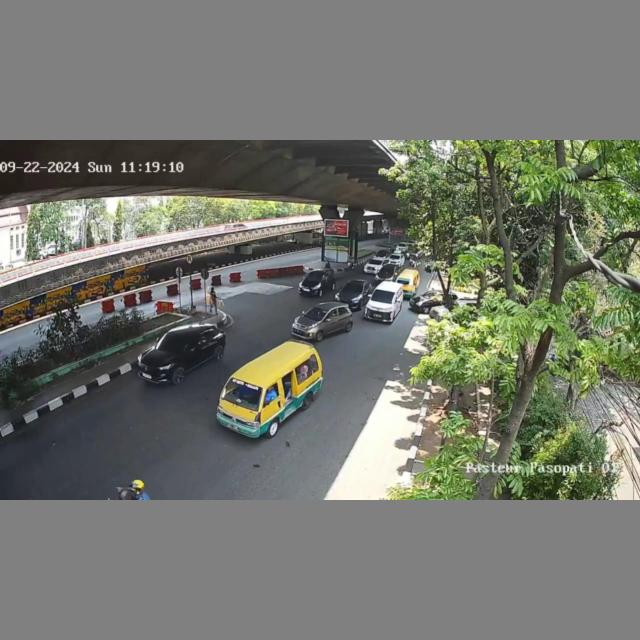windshield: (217, 378, 263, 407), (154, 334, 184, 354), (369, 288, 396, 305), (305, 308, 328, 320), (341, 283, 363, 293), (397, 276, 414, 285), (305, 272, 321, 281), (369, 259, 382, 265)
